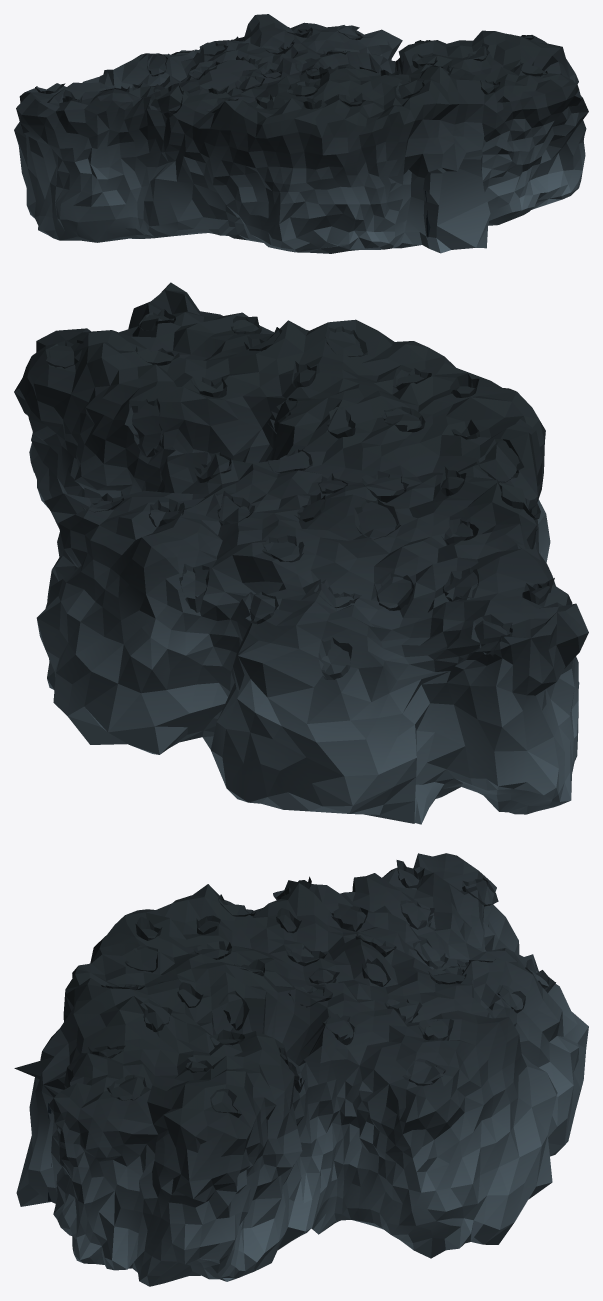
The model's file is Environment_Cave_1.fbx.
3 views of the same model, one above another, from view 1: azimuth 30°, elevation 25°; view 2: azimuth 150°, elevation 25°; view 3: azimuth 270°, elevation 25° (orthographic). The views are drawn at different scales.
Parts seen in each view (by area): view 1: Cave; view 2: Cave; view 3: Cave.
Boxes of the visible parts, left/top/right/bottom form: Cave: left=14, top=14, right=588, bottom=253; Cave: left=14, top=282, right=588, bottom=824; Cave: left=14, top=853, right=588, bottom=1286.
Size of the model in its own units: 13643 by 5161 by 10626.
2 materials, 1 textured.
